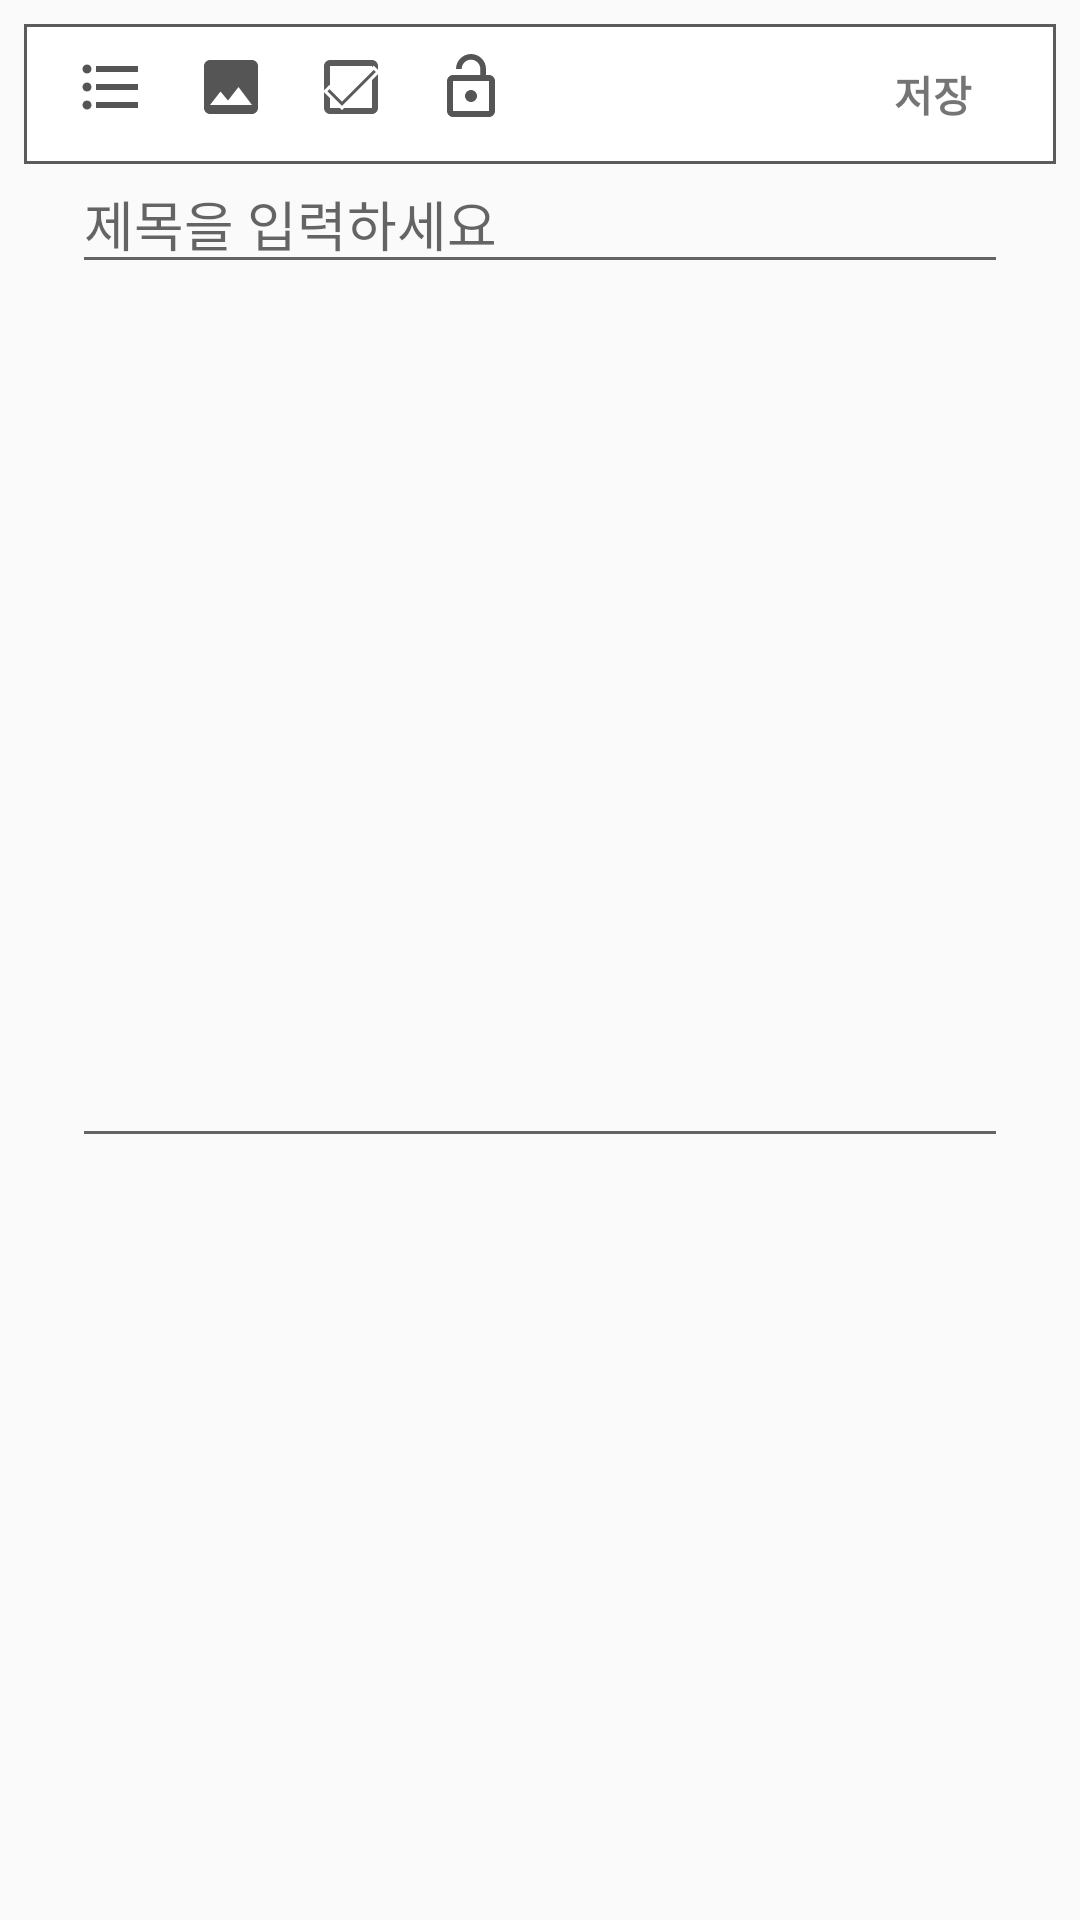

Icons on this 1080×1920 Android screen, each with its box as box(x1, y1, x2, y2):
check: box(324, 60, 378, 114)
format list bulleted: box(82, 64, 138, 110)
lock open: box(447, 54, 495, 117)
